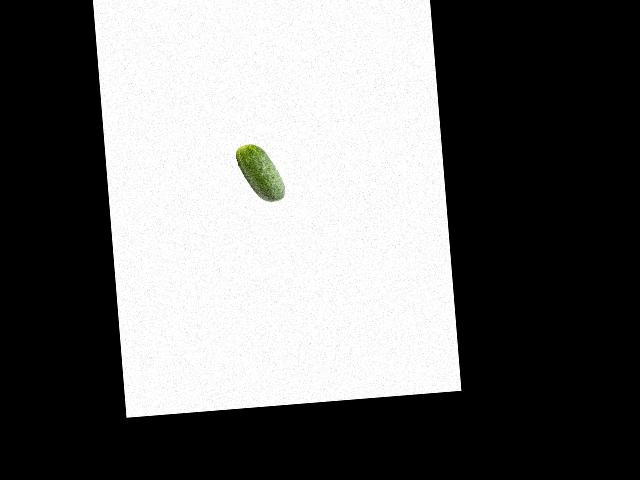cucumber: (235, 141, 286, 204)
